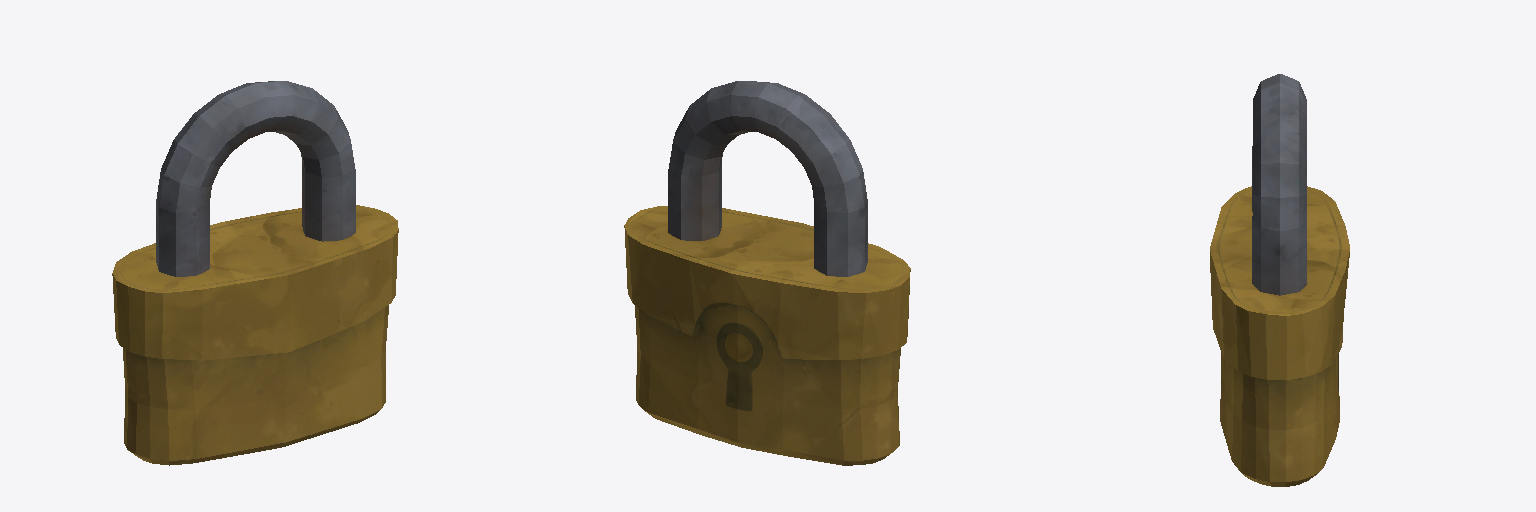
3 renders of one model, left to right at view 1: azimuth 30°, elevation 25°; view 2: azimuth 150°, elevation 25°; view 3: azimuth 270°, elevation 25°, orthographic.
Visible parts, largest first — view 1: candado; view 2: candado; view 3: candado.
Part boxes in pixels (x1,y1,x2,y2): candado: (112, 81, 398, 465); candado: (624, 81, 910, 465); candado: (1210, 74, 1349, 486).
Size of the model in its own units: 1.71 by 2.06 by 0.762.
Materials: 1 (1 with a texture image).